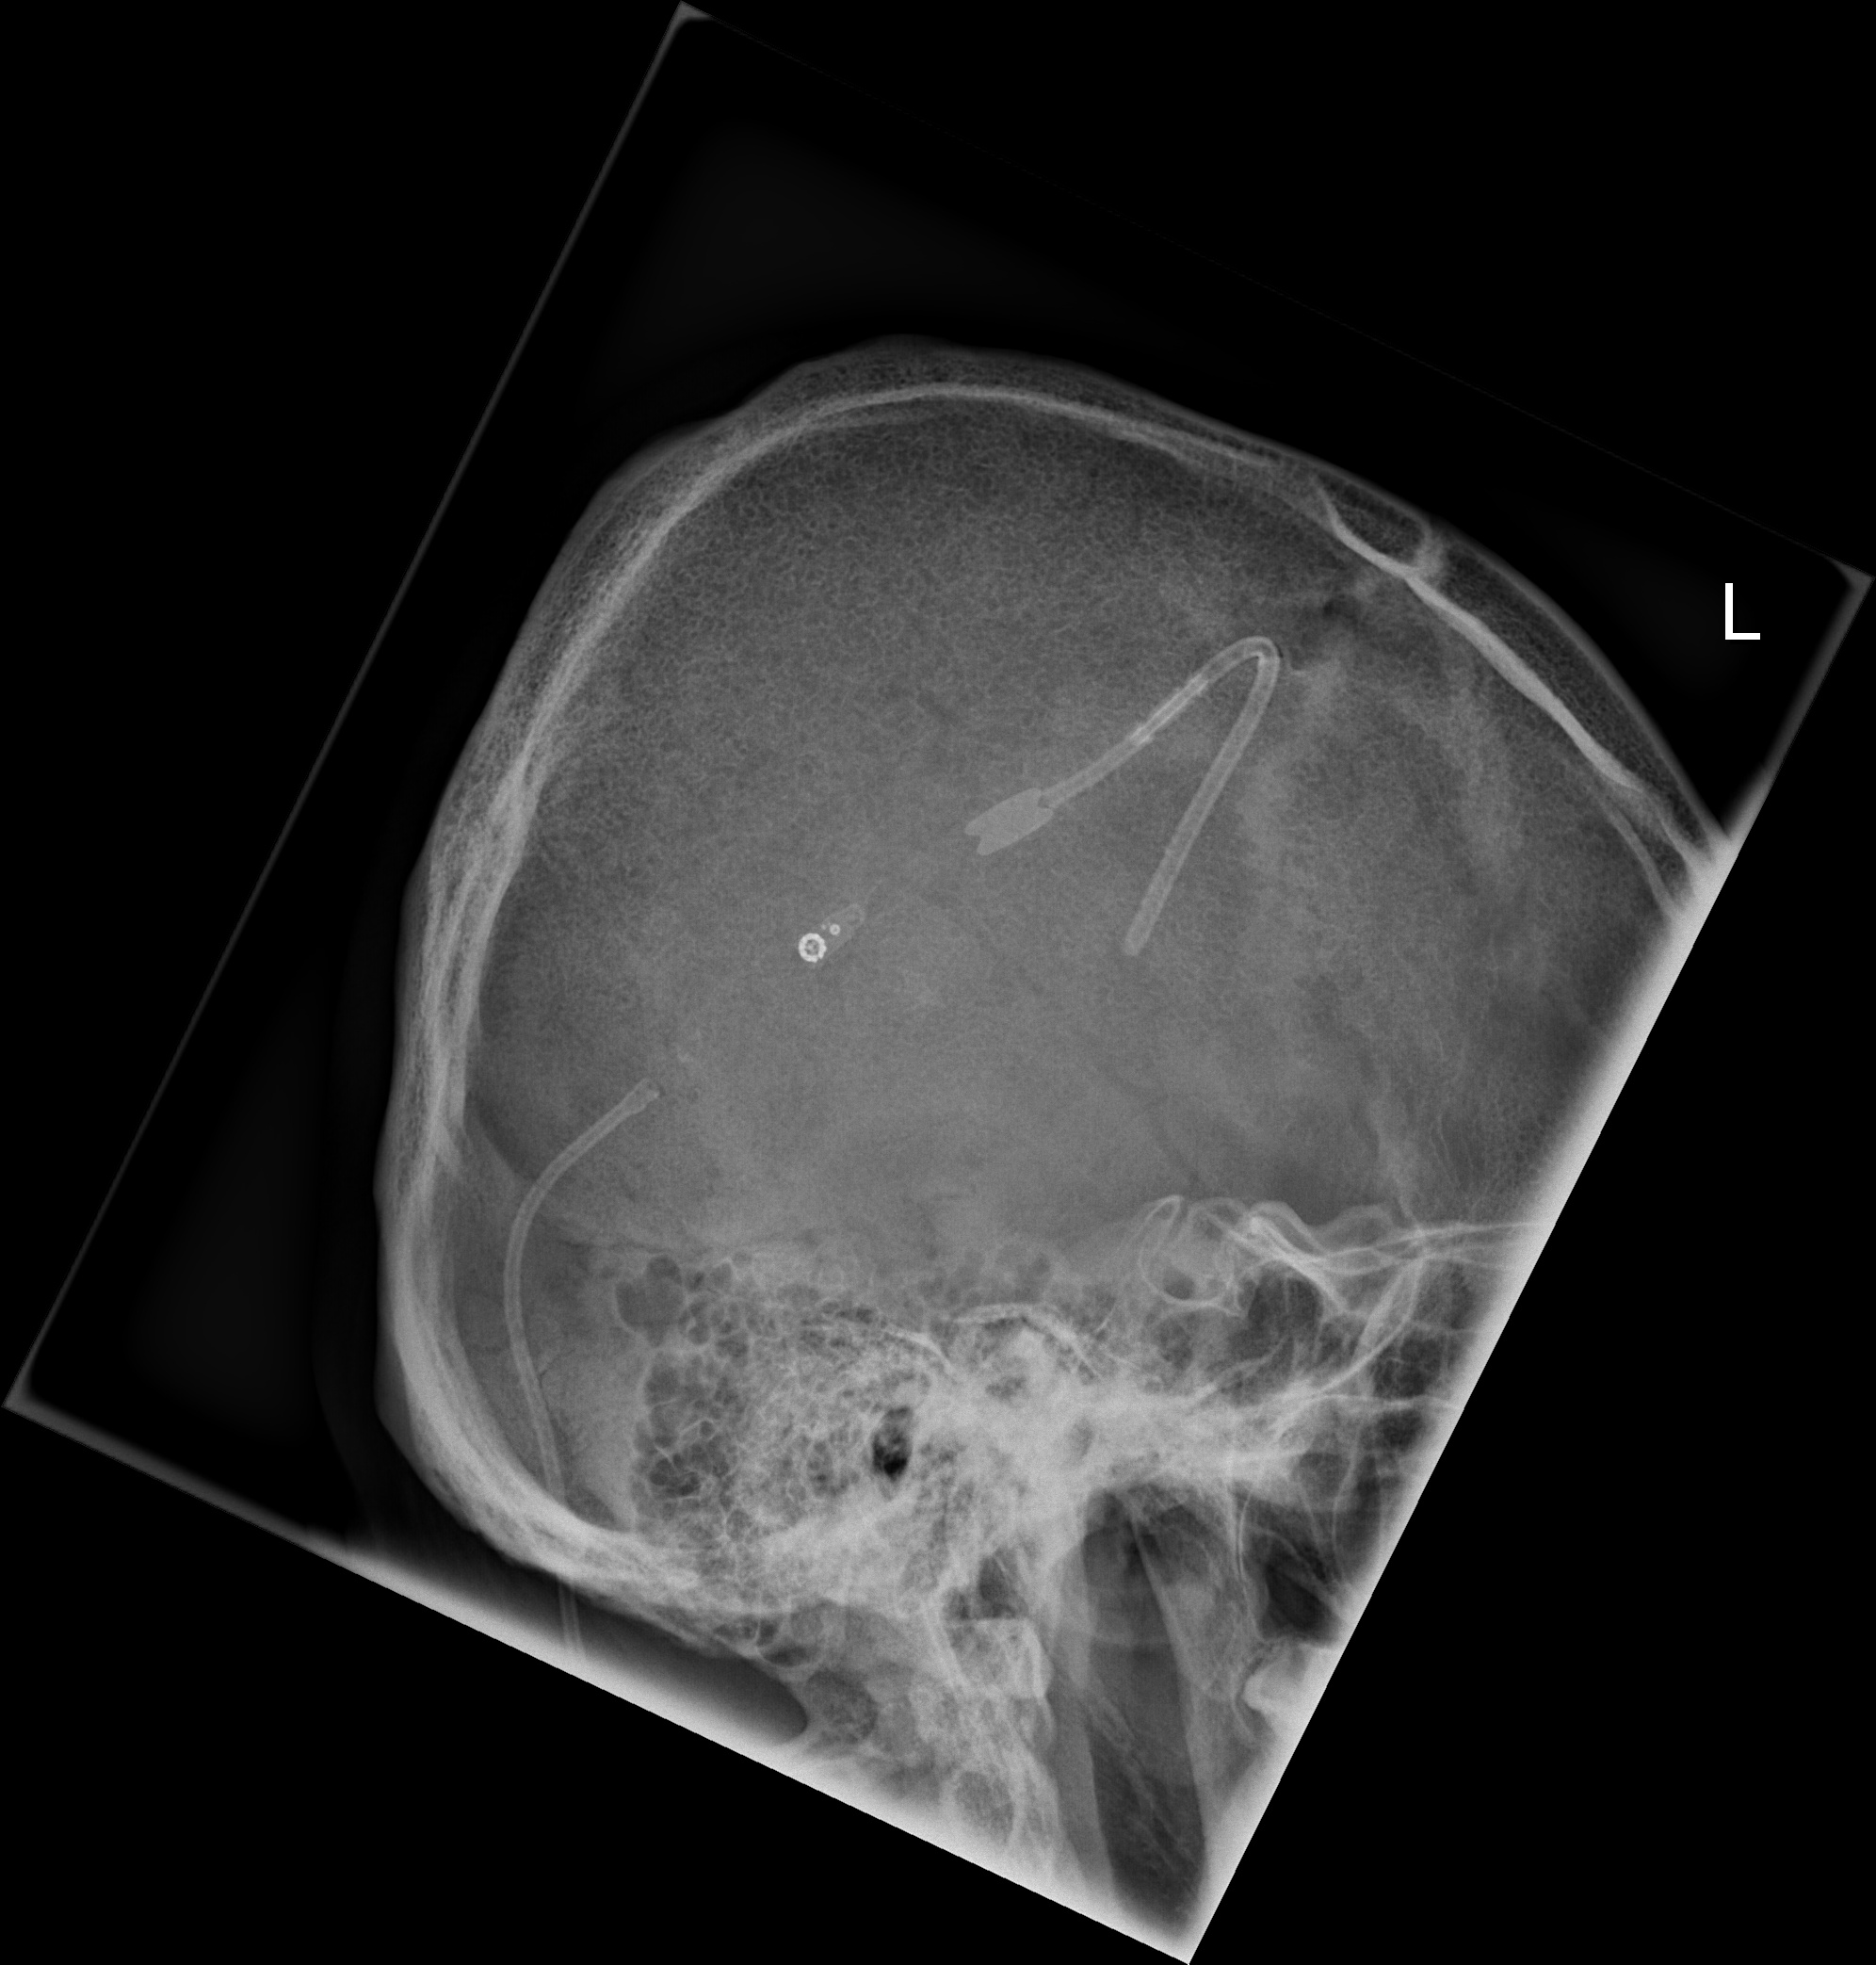Codman Hakim: (792, 900, 868, 968)
